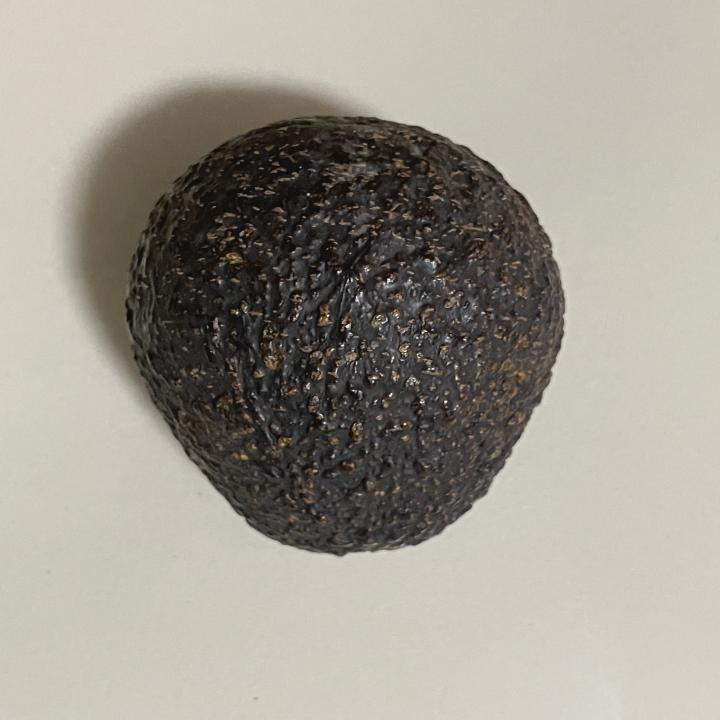Level3: (110, 108, 580, 572)
